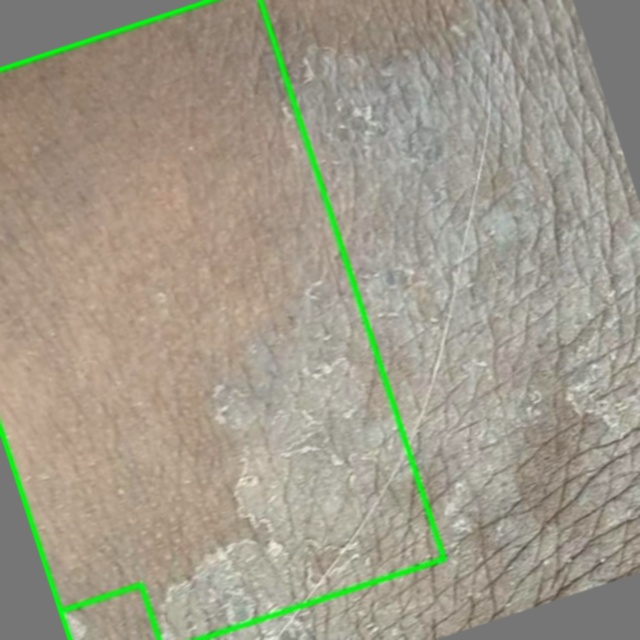Eczema: (0, 0, 444, 639)
